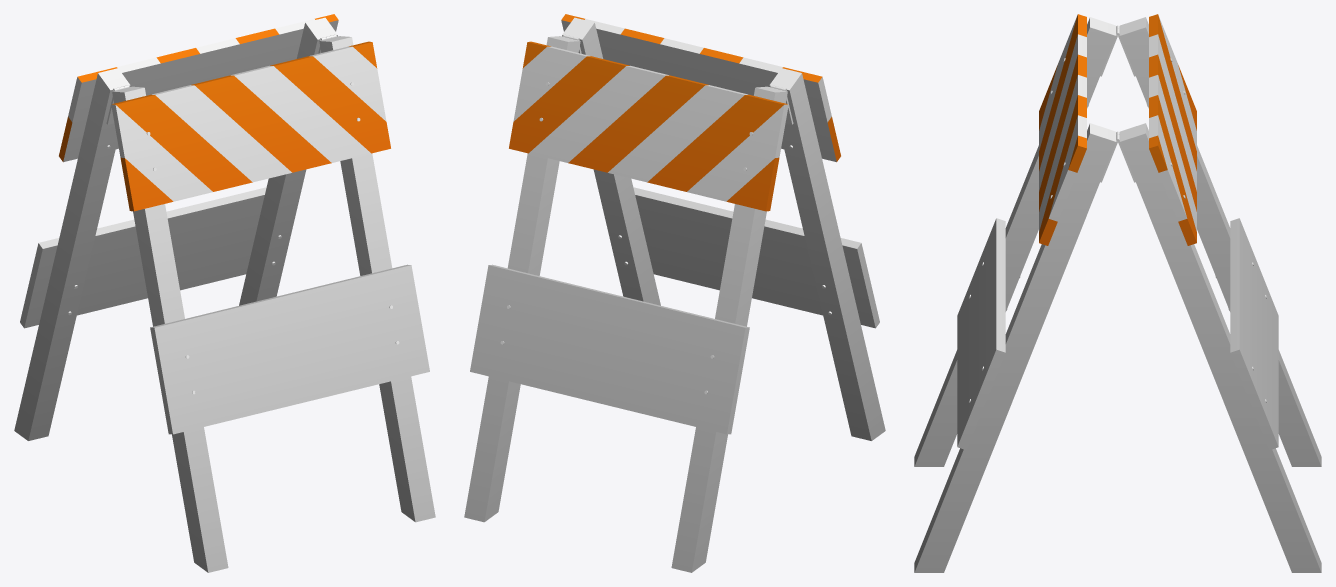
Rendered from type_i_barricade_01_small.glb.
3 renders of one model, left to right at view 1: azimuth 30°, elevation 25°; view 2: azimuth 150°, elevation 25°; view 3: azimuth 270°, elevation 25°, orthographic. The views are drawn at different scales.
Visible parts, largest first — view 1: type_i_barricade_01_small; view 2: type_i_barricade_01_small; view 3: type_i_barricade_01_small.
Boxes of the visible parts, x1,y1,x2,y2 form: type_i_barricade_01_small: (14,14,435,572); type_i_barricade_01_small: (464,14,885,572); type_i_barricade_01_small: (914,14,1321,572).
Bounding box in the file's own units: 0.635 × 0.9894 × 0.8304.
Materials: 1 (1 with a texture image).
